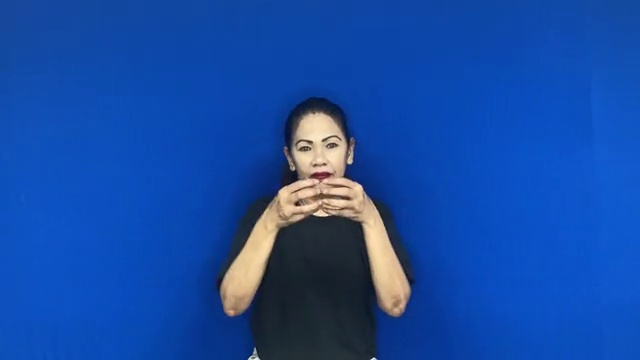egg: (261, 169, 378, 239)
